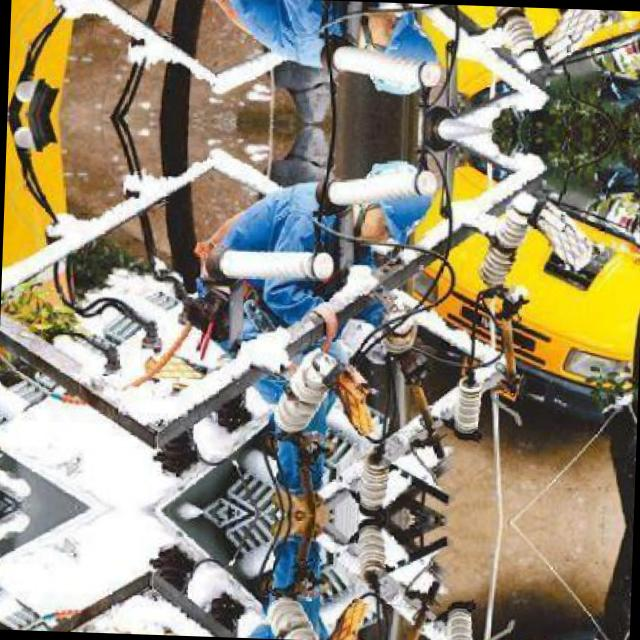helmet: (352, 4, 442, 102), (348, 149, 437, 247)
